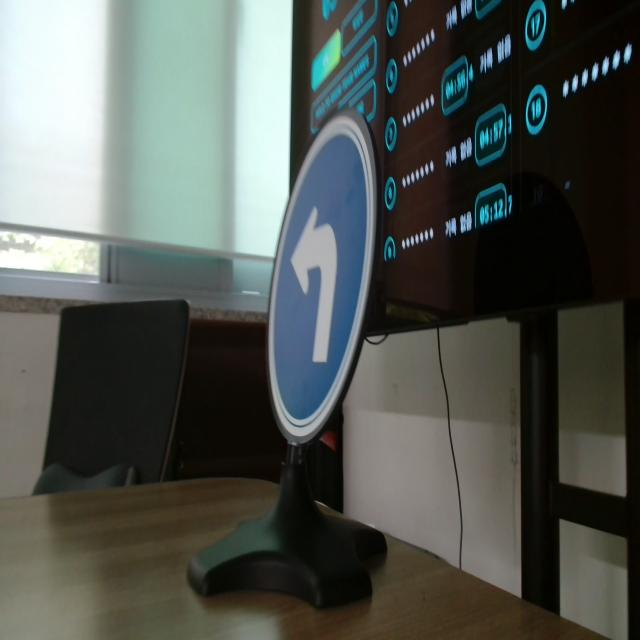left_direction: (263, 103, 392, 469)
